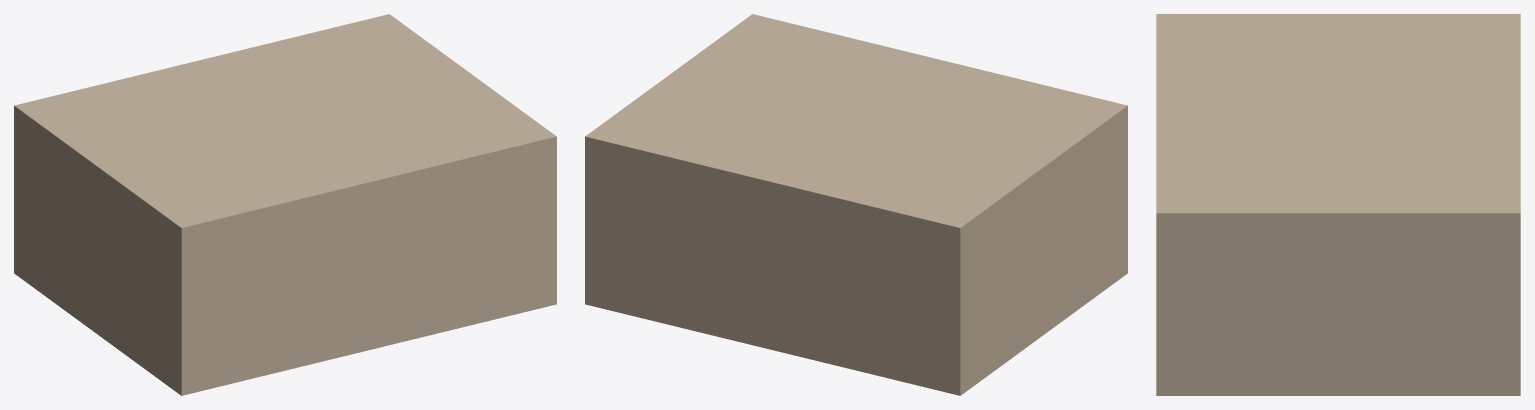
File: massing.glb
The picture shows the model from 3 angles, left to right: view 1: azimuth 30°, elevation 25°; view 2: azimuth 150°, elevation 25°; view 3: azimuth 270°, elevation 25°; orthographic projection. The views are drawn at different scales.
Parts seen in each view (by area): view 1: building/exterior; view 2: building/exterior; view 3: building/exterior.
Part boxes in pixels (box(x1,y1,x2,y2)): building/exterior: box(14, 14, 556, 395); building/exterior: box(585, 14, 1127, 395); building/exterior: box(1156, 14, 1520, 395).
Bounding box in the file's own units: 14.04 × 6 × 10.85.
